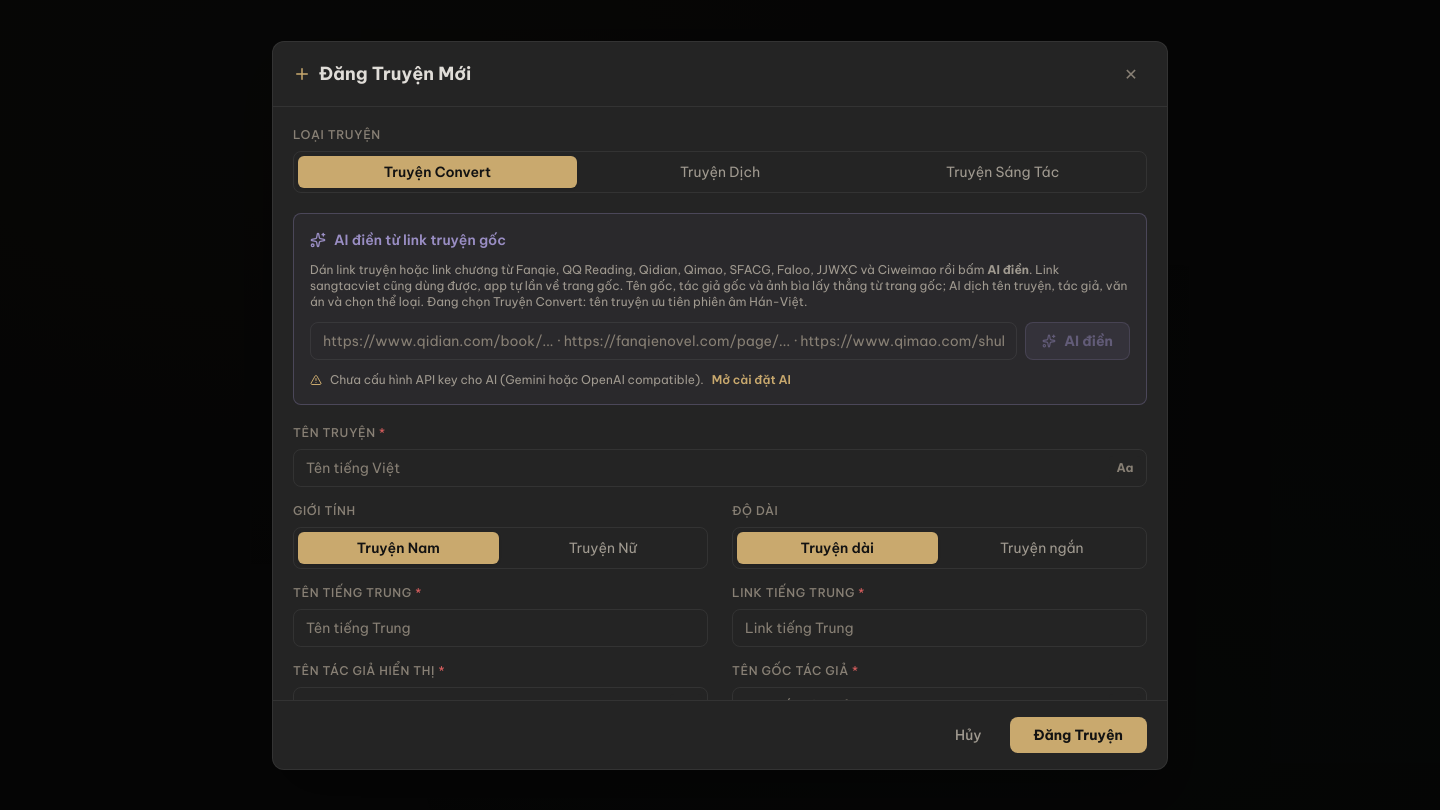
Test case: CreateBookModal › an original story hides the Chinese-source fields and is authored by the account
expect the field named "Link truyện gốc" is shown: met, box [310, 322, 1017, 360]
expect the button "Truyện Convert" is shown: met, box [298, 156, 577, 188]
Click the button "Truyện Sáng Tác": (1003, 172) [863, 156, 1142, 188]
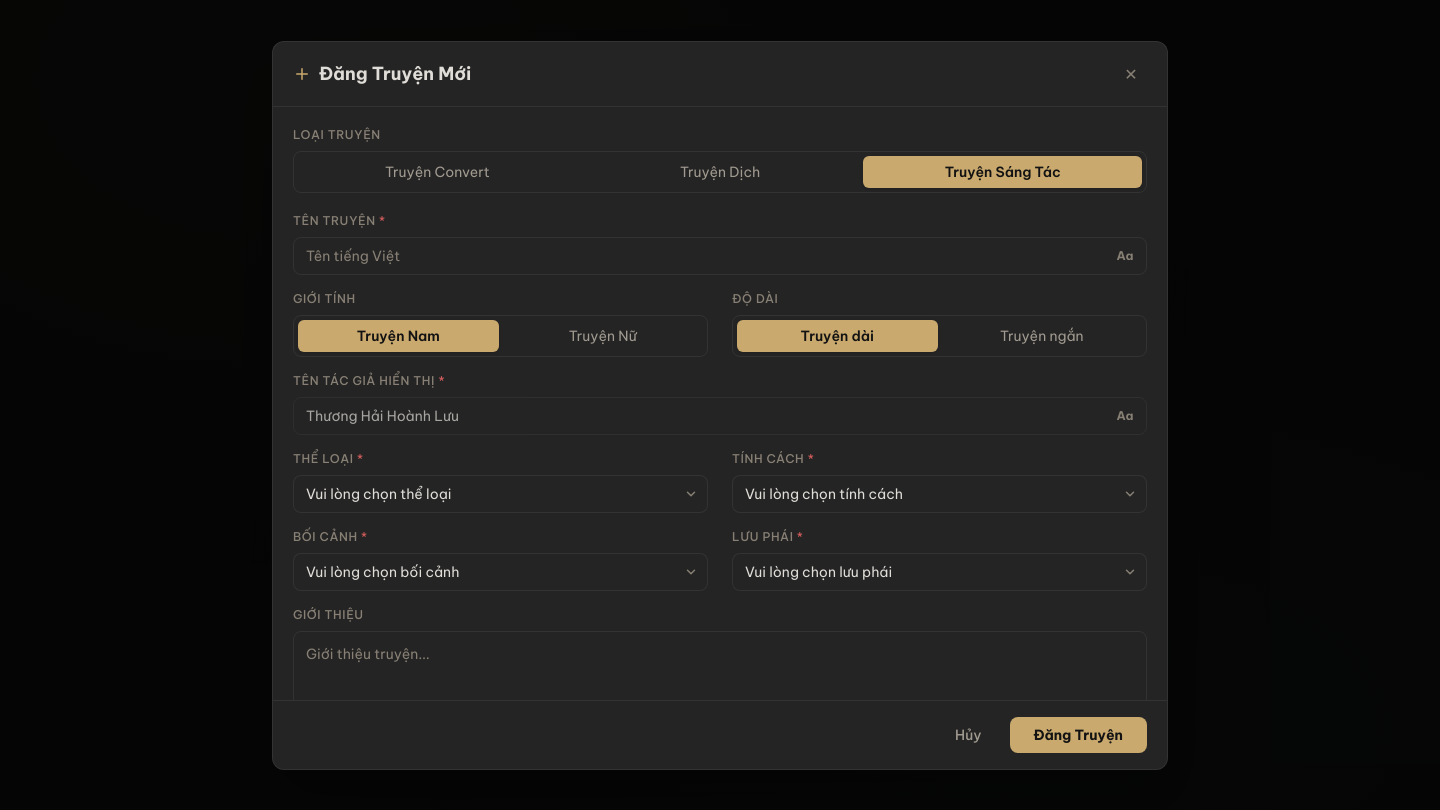
expect the field labelled "link truyện gốc" is gone: met
